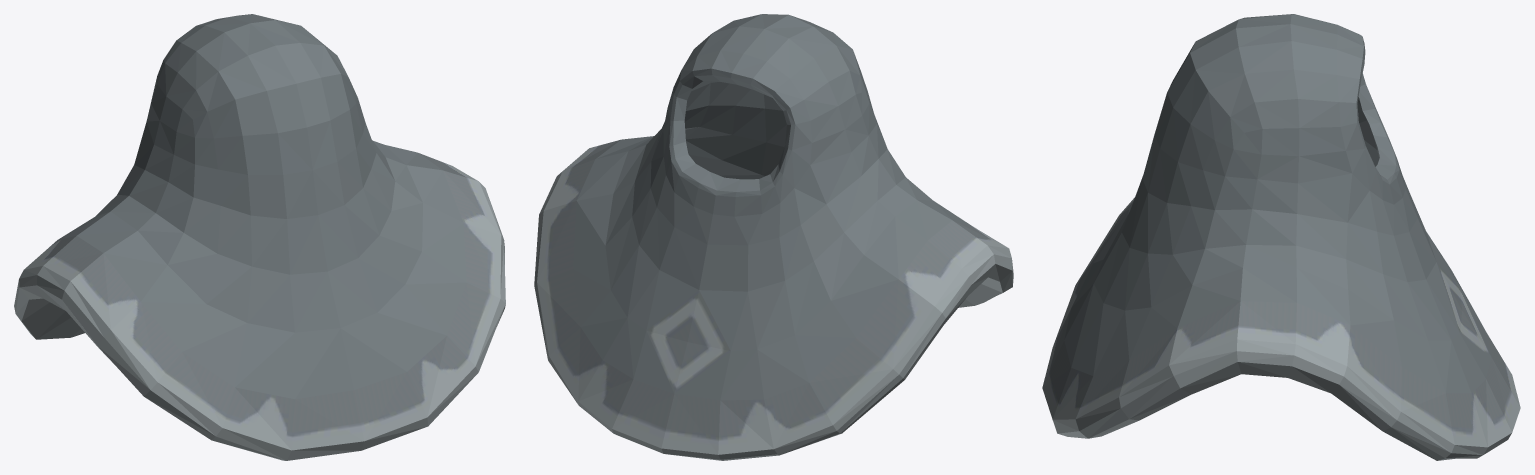
File: NPC_LaborerMaleHeadwrap.glb
3 views of the same model, side by side, from view 1: azimuth 30°, elevation 25°; view 2: azimuth 150°, elevation 25°; view 3: azimuth 270°, elevation 25° (orthographic). The views are drawn at different scales.
Parts seen in each view (by area): view 1: NPC_LaborerMaleHeadwrap; view 2: NPC_LaborerMaleHeadwrap; view 3: NPC_LaborerMaleHeadwrap.
Boxes of the visible parts, x1,y1,x2,y2 form: NPC_LaborerMaleHeadwrap: (14, 14, 505, 460); NPC_LaborerMaleHeadwrap: (534, 14, 1013, 460); NPC_LaborerMaleHeadwrap: (1042, 14, 1520, 460).
Size of the model in its own units: 4.96 by 4.04 by 4.44.
Materials: 1 (1 with a texture image).
